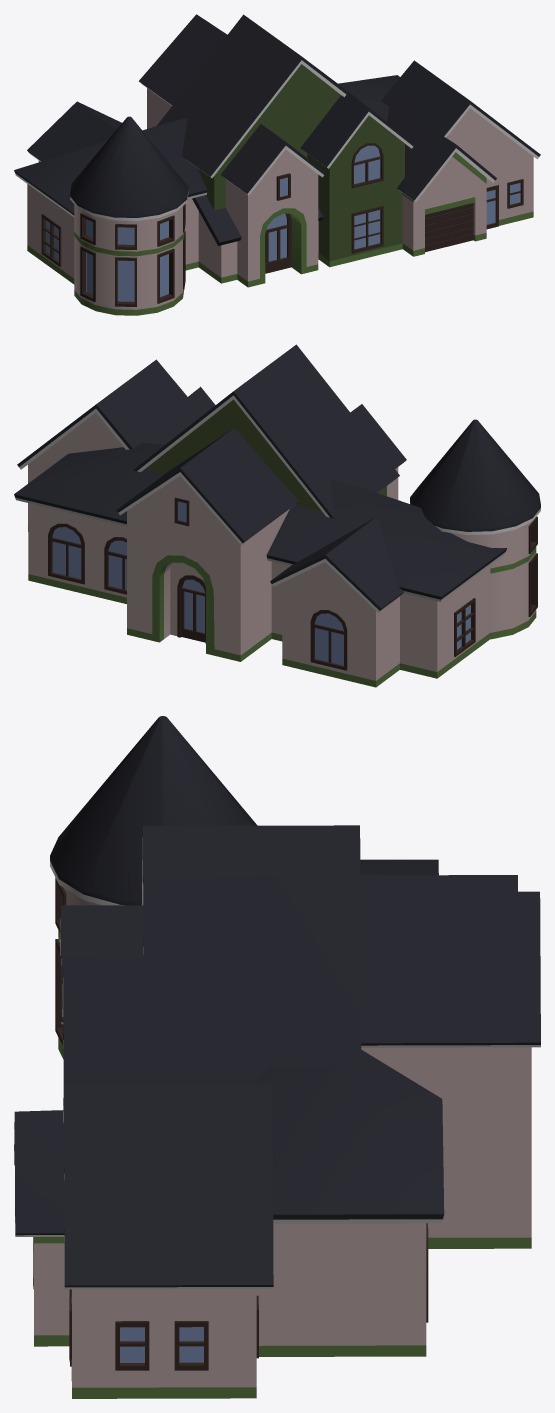
File: Mansion_02.fbx
The picture shows the model from 3 angles, top to bottom: view 1: azimuth 30°, elevation 25°; view 2: azimuth 150°, elevation 25°; view 3: azimuth 270°, elevation 25°; orthographic projection. The views are drawn at different scales.
Visible parts, largest first — view 1: Mansion_02; view 2: Mansion_02; view 3: Mansion_02.
Part boxes in pixels (x1,y1,x2,y2): Mansion_02: (14, 14, 540, 315); Mansion_02: (14, 344, 540, 687); Mansion_02: (14, 716, 540, 1398).
Bounding box in the file's own units: 25.56 × 11.14 × 14.12.
